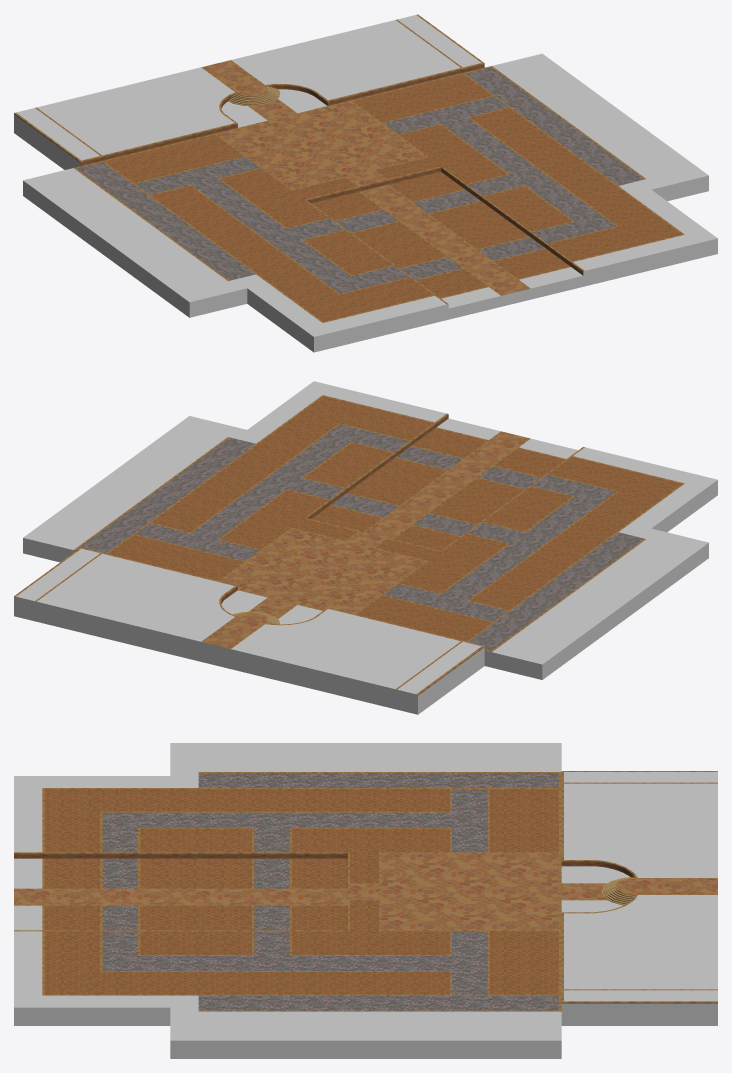
File: City01.FBX
3 views of the same model, one above another, from view 1: azimuth 30°, elevation 25°; view 2: azimuth 150°, elevation 25°; view 3: azimuth 270°, elevation 25° (orthographic). The views are drawn at different scales.
Visible parts, largest first — view 1: City01; view 2: City01; view 3: City01.
Part boxes in pixels (left/top/right/bottom): City01: left=14, top=14, right=717, bottom=352; City01: left=14, top=381, right=717, bottom=714; City01: left=14, top=743, right=717, bottom=1058.
Bounding box in the file's own units: 14477 × 535 × 14477.
